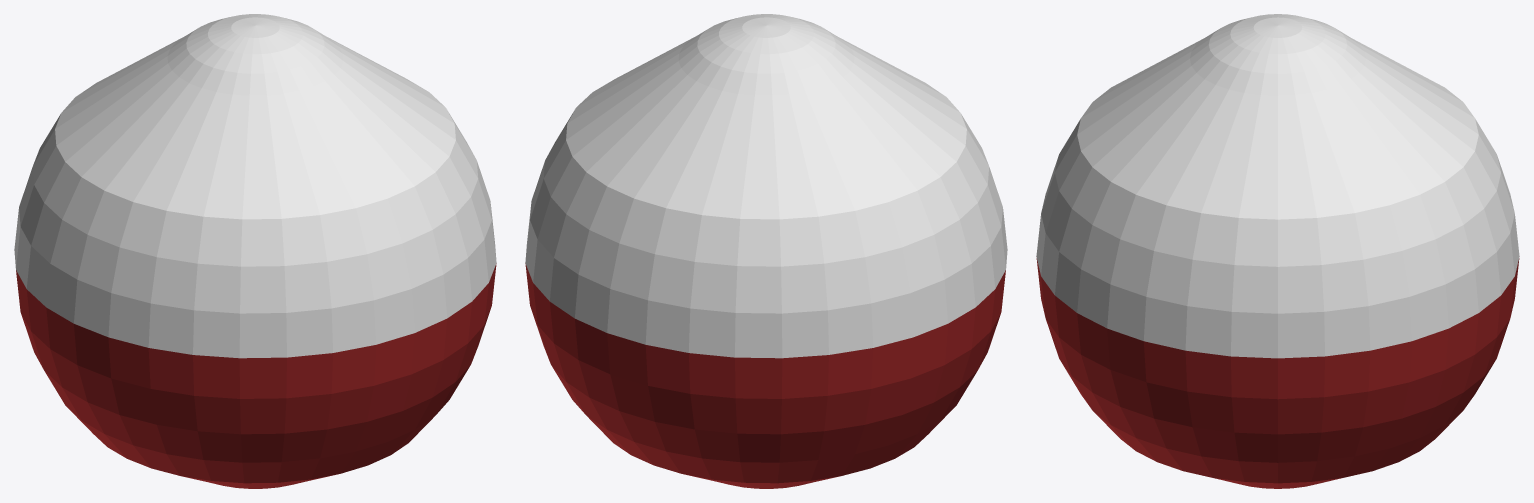
Rendered from udica.glb.
3 renders of one model, left to right at view 1: azimuth 30°, elevation 25°; view 2: azimuth 150°, elevation 25°; view 3: azimuth 270°, elevation 25°, orthographic.
Parts seen in each view (by area): view 1: Sphere; view 2: Sphere; view 3: Sphere.
Part boxes in pixels (x1=…): Sphere: x1=14, y1=14, x2=496, y2=488; Sphere: x1=525, y1=14, x2=1007, y2=488; Sphere: x1=1036, y1=14, x2=1519, y2=488.
Size of the model in its own units: 2 by 2.04 by 2.
